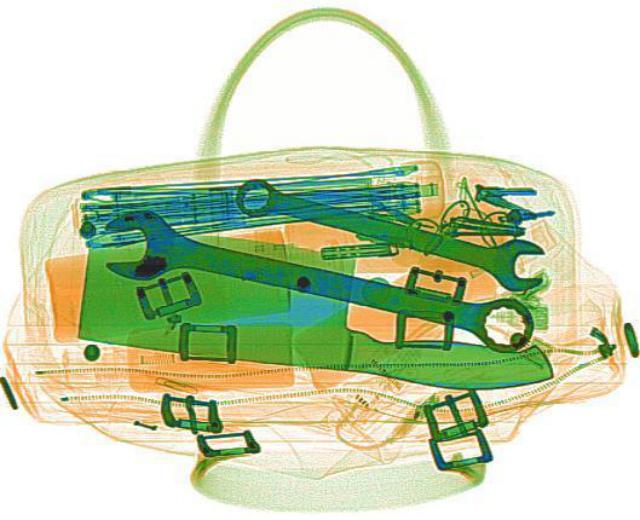Knife: (66, 218, 574, 397)
Wrench: (86, 201, 542, 363), (225, 167, 557, 293)
